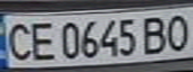0: (54, 18, 81, 61)
4: (100, 16, 121, 58)
5: (115, 15, 142, 57)
6: (78, 17, 103, 60)
B: (139, 13, 172, 55)
C: (0, 19, 36, 63)
E: (24, 18, 60, 62)
O: (163, 11, 193, 53)
